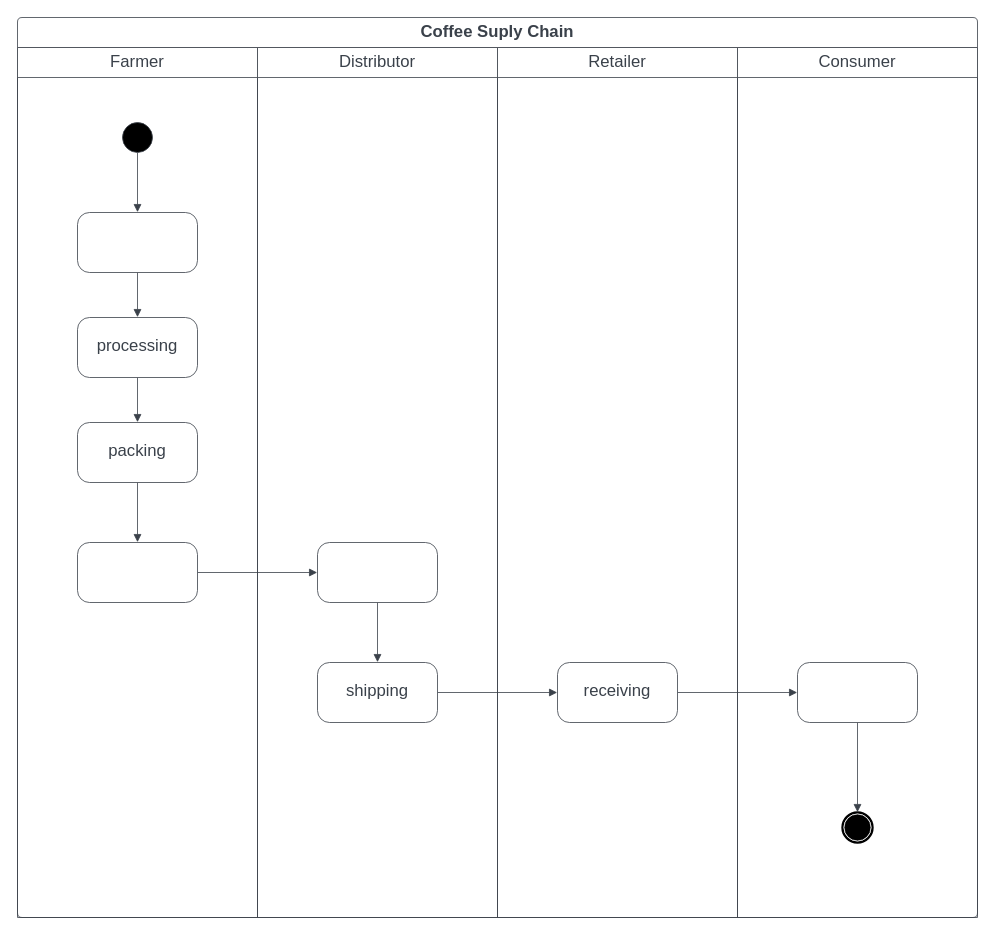
This 995x935 diagram has some shape labels left out. The centre of each missing label's shape, as x and y in pixels:
buying: the point at 377,572
harvesting: the point at 137,242
purchasing: the point at 857,692
selling: the point at 137,572
